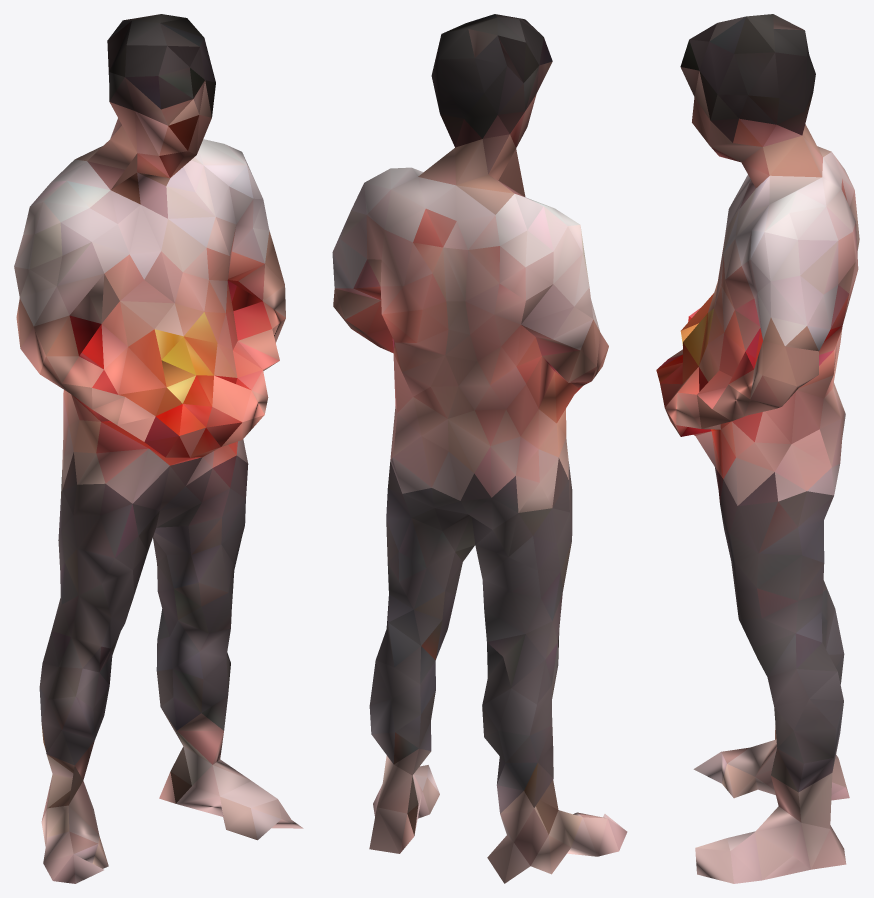
Rendered from SecondModel.glb.
3 renders of one model, left to right at view 1: azimuth 30°, elevation 25°; view 2: azimuth 150°, elevation 25°; view 3: azimuth 270°, elevation 25°, orthographic.
Visible parts, largest first — view 1: StomachAche; view 2: StomachAche; view 3: StomachAche.
Boxes of the visible parts, bbox=[...] form: StomachAche: bbox=[14, 14, 303, 883]; StomachAche: bbox=[332, 14, 627, 883]; StomachAche: bbox=[656, 14, 859, 883].
Size of the model in its own units: 0.6592 by 2 by 0.4534.
1 material, 1 textured.
